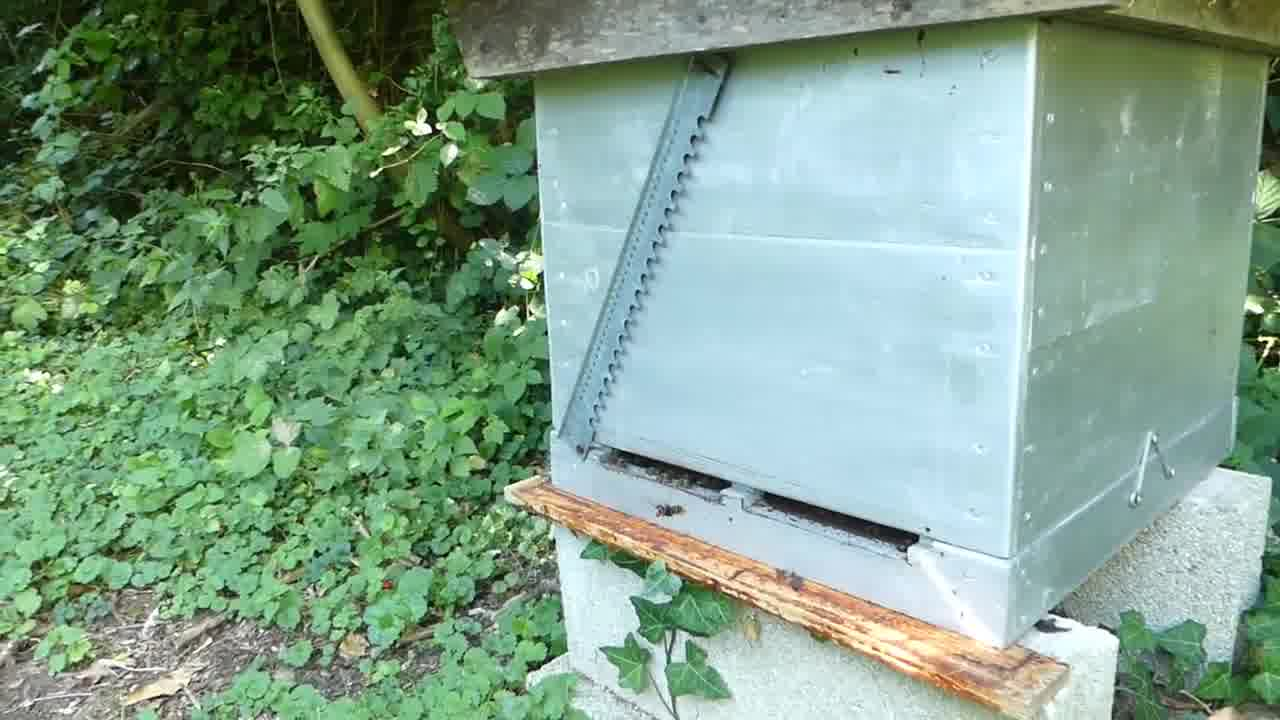hornet: (655, 504, 684, 522)
